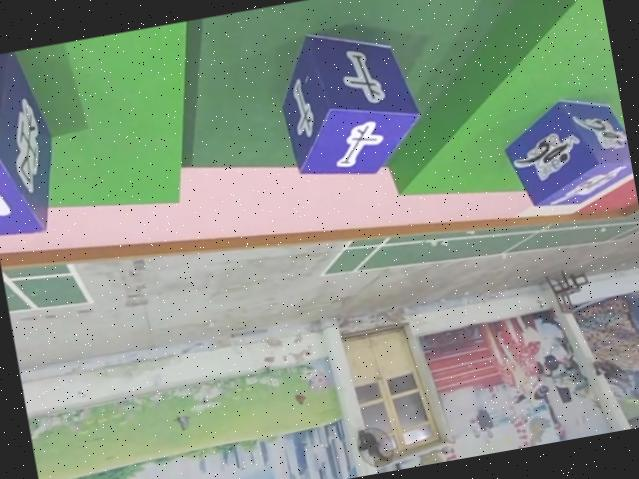R1 Blue: (494, 89, 636, 214)
R2 Real Blue: (267, 13, 426, 186), (0, 47, 65, 243)
